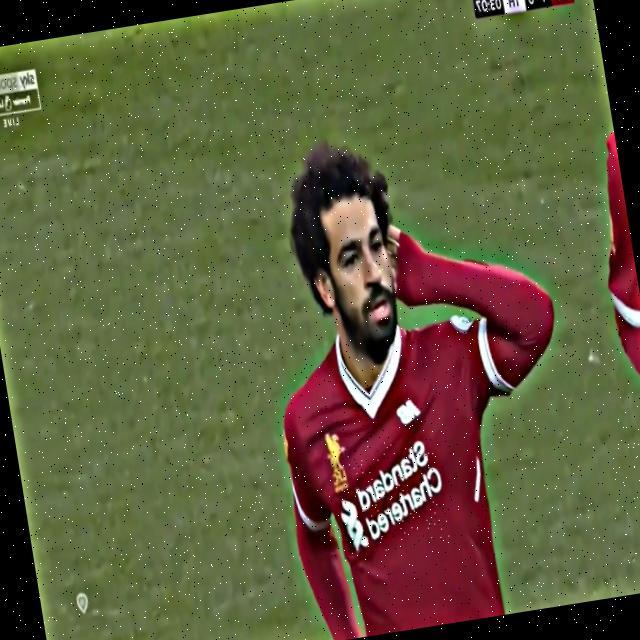Standard Chartered: (331, 434, 451, 557)
